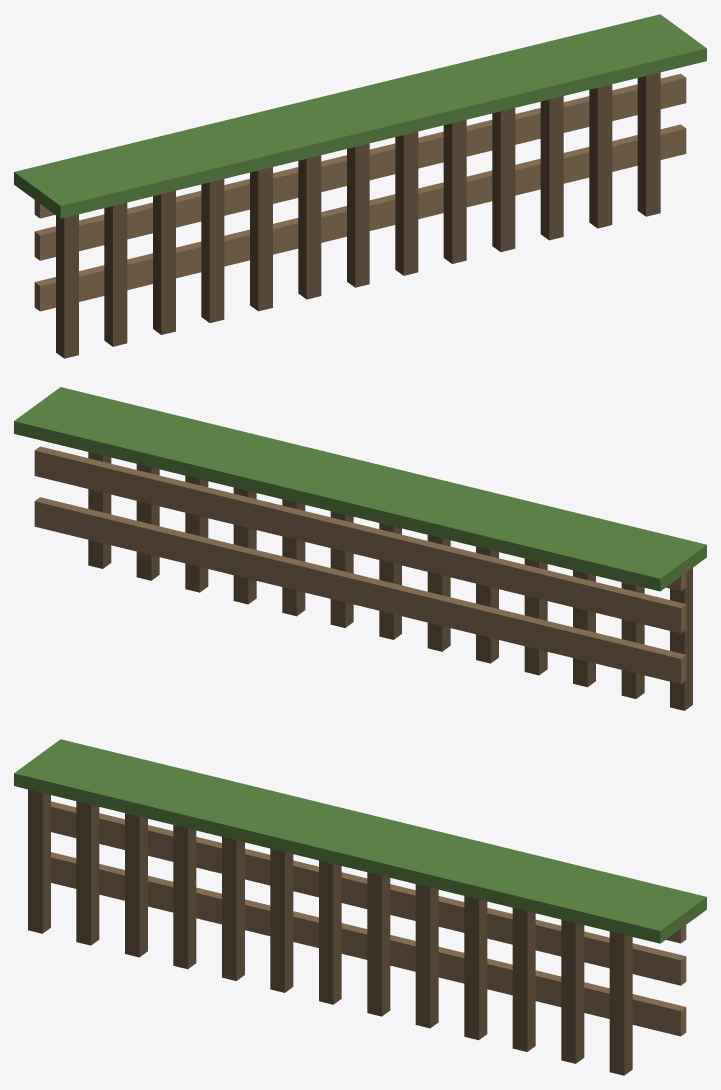
The model's file is f08-bank-pile-revetment.glb.
The picture shows the model from 3 angles, top to bottom: view 1: azimuth 30°, elevation 25°; view 2: azimuth 150°, elevation 25°; view 3: azimuth 330°, elevation 25°; orthographic projection.
Parts seen in each view (by area): view 1: part16, part13, part14, part5, part11, part9, part12, part3, part7, part1, part10, part8 (+4 smaller); view 2: part16, part14, part13, part0, part7, part1, part8, part9, part3, part11, part12, part5 (+4 smaller); view 3: part16, part13, part14, part8, part12, part10, part1, part5, part7, part11, part3, part9 (+4 smaller).
Part boxes in pixels (box(x1,y1,x2,y2)): part16: box(14, 14, 706, 218); part13: box(34, 124, 686, 311); part14: box(34, 73, 686, 260); part5: box(298, 155, 321, 299); part11: box(589, 84, 612, 228); part9: box(492, 108, 515, 251); part12: box(637, 72, 660, 216); part3: box(201, 179, 224, 322); part7: box(395, 131, 418, 275); part1: box(104, 202, 127, 346); part10: box(540, 96, 563, 240); part8: box(443, 120, 466, 263); part16: box(14, 387, 706, 591); part14: box(34, 446, 686, 633); part13: box(34, 497, 686, 684); part0: box(670, 568, 692, 710); part7: box(330, 511, 353, 627); part1: box(621, 582, 644, 698); part8: box(282, 499, 305, 616); part9: box(233, 487, 256, 604); part3: box(524, 558, 547, 675); part11: box(136, 464, 159, 580); part12: box(88, 452, 111, 568); part5: box(427, 535, 450, 651); part16: box(14, 739, 706, 943); part13: box(51, 852, 686, 1036); part14: box(51, 801, 686, 985); part8: box(415, 884, 438, 1028); part12: box(609, 931, 632, 1075); part10: box(512, 908, 535, 1051); part1: box(76, 801, 99, 945); part5: box(270, 848, 293, 992); part7: box(367, 872, 390, 1016); part11: box(561, 919, 584, 1063); part3: box(173, 825, 196, 969); part9: box(464, 896, 487, 1040).
Size of the model in its own units: 8000 by 1875 by 1000.
